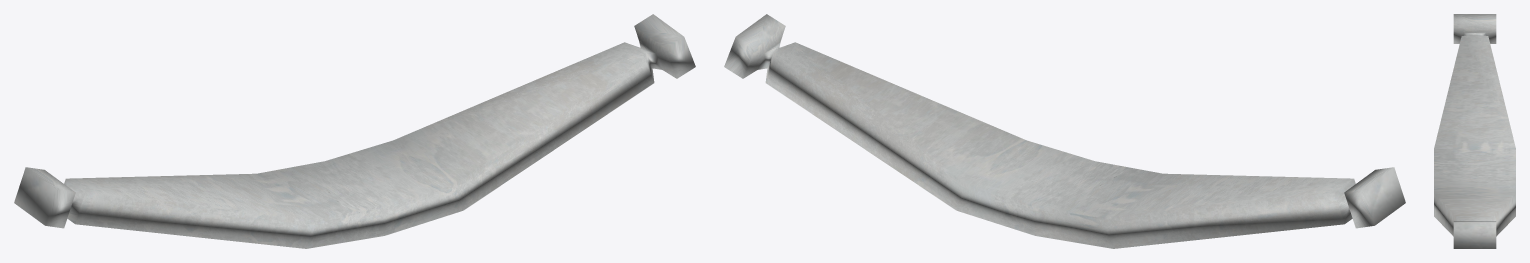
Rendered from Guard_2.fbx.
The picture shows the model from 3 angles, left to right: view 1: azimuth 30°, elevation 25°; view 2: azimuth 150°, elevation 25°; view 3: azimuth 270°, elevation 25°; orthographic projection. The views are drawn at different scales.
Visible parts, largest first — view 1: Cube.001; view 2: Cube.001; view 3: Cube.001.
Boxes of the visible parts, box(x1,y1,x2,y2) form: Cube.001: box(14, 14, 695, 248); Cube.001: box(724, 14, 1405, 248); Cube.001: box(1434, 14, 1515, 248).
Size of the model in its own units: 11.34 by 1.86 by 1.81.
